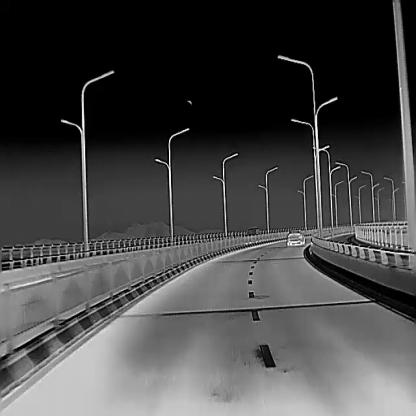car: (286, 228, 304, 245), (245, 226, 259, 234)
